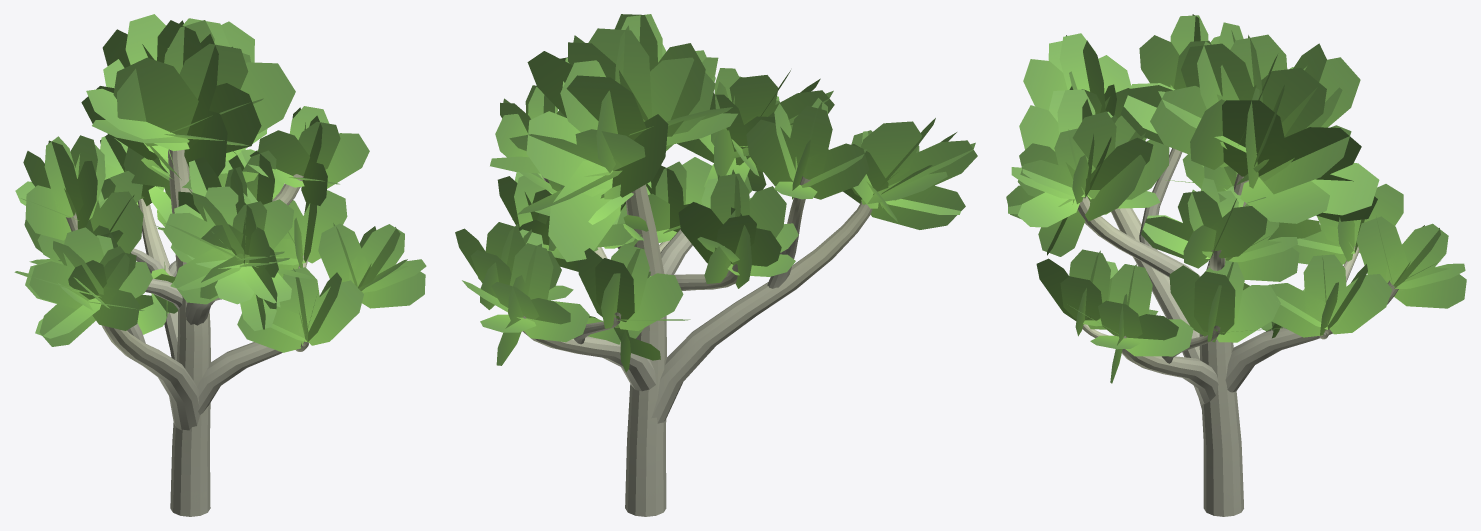
The model's file is tree01.fbx.
3 renders of one model, left to right at view 1: azimuth 30°, elevation 25°; view 2: azimuth 150°, elevation 25°; view 3: azimuth 270°, elevation 25°, orthographic. The views are drawn at different scales.
Visible parts, largest first — view 1: polySurface85, polySurface31; view 2: polySurface85, polySurface31; view 3: polySurface85, polySurface31.
Boxes of the visible parts, <box> form: polySurface85: <box>14,14,426,352</box>; polySurface31: <box>66,149,308,516</box>; polySurface85: <box>455,14,977,372</box>; polySurface31: <box>522,176,872,516</box>; polySurface85: <box>1006,14,1466,383</box>; polySurface31: <box>1077,148,1398,516</box>.
Bounding box in the file's own units: 189 × 202 × 178.
